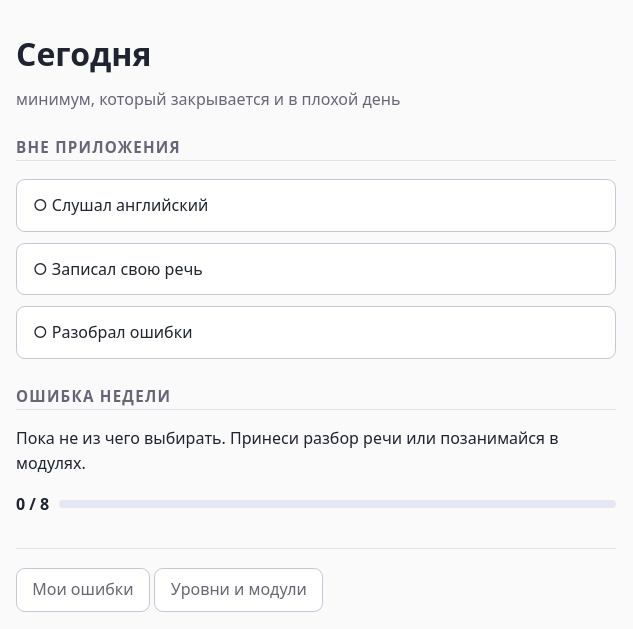
Test case: App › starts on Today and can reach the level folders
Expected: the heading "Сегодня" is shown, x1=16 y1=32 x2=152 y2=75
Click the button "Уровни и модули".
click(239, 590)  # box x1=154 y1=568 x2=323 y2=612
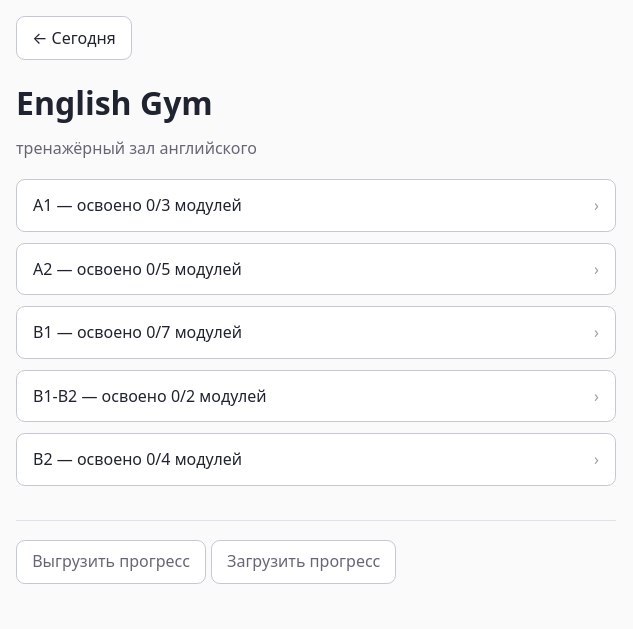
Now the button "A1 — освоено 0/3 модулей" is shown, box x1=16 y1=179 x2=616 y2=232
Now the button "B1 — освоено 0/7 модулей" is shown, box x1=16 y1=306 x2=616 y2=359
